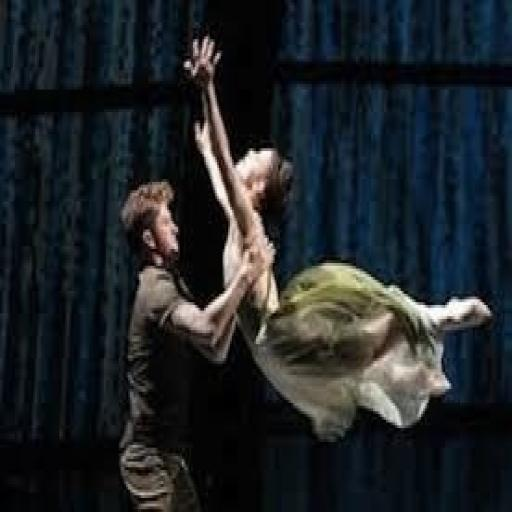dancing: (182, 30, 497, 448)
